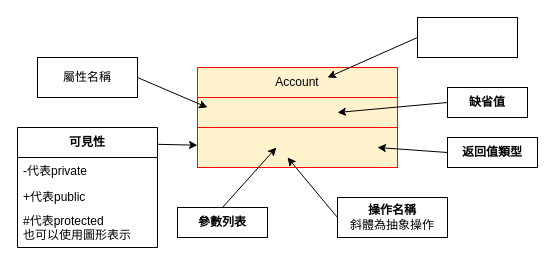
Image size: 555x268. Some labels were removed from this diagram. Each missing label, with the centre of its shape:
"+ Deposit(amount : double) : int + Computeinterest() : double" belongs at [297,147].
"- balance : double = 1" belongs at [297,112].
"類名 斜體為抽象類" belongs at [467,37].
